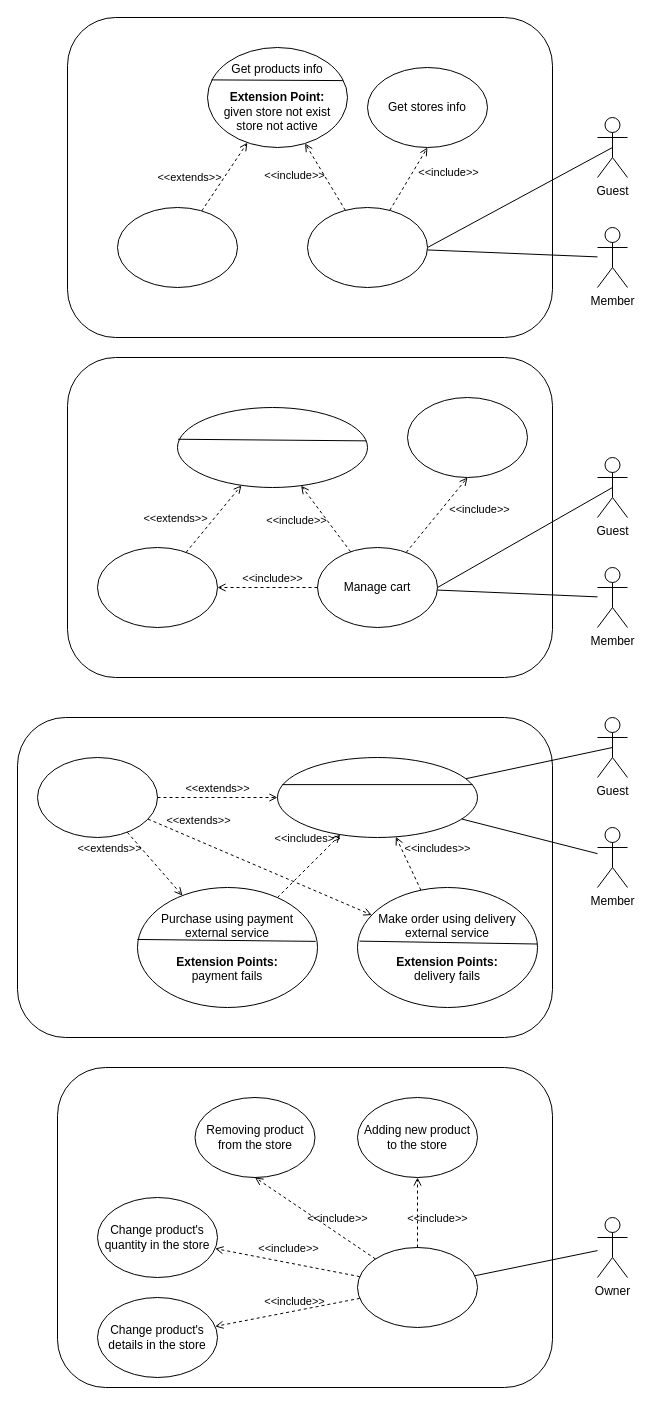
This 652x1405 diagram has some shape labels left out. The shapes that lost their labels are listed below. From the top down, each one's centre as x and y in pixels, then its label:
the point at 177,247: Display Error
the point at 367,247: Get info
the point at 272,447: Change product count in cart Extension Point: given count equals 0
the point at 467,437: View cart
the point at 157,587: Delete product from cart
the point at 97,797: Error response
the point at 377,797: Purchase cart content Extension Points: not all the products available
the point at 417,1287: Manage store inventory
